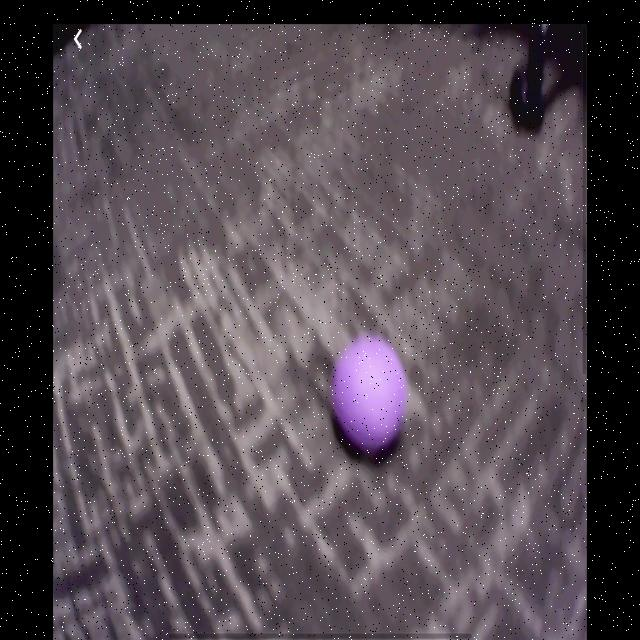ball: (330, 334, 409, 457)
